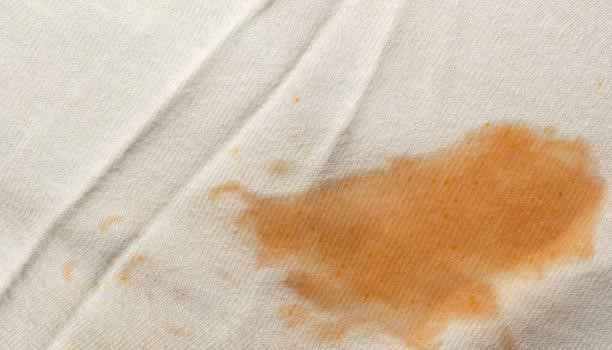stain: (203, 121, 608, 350), (118, 250, 148, 289), (96, 213, 128, 236), (60, 253, 84, 283)
